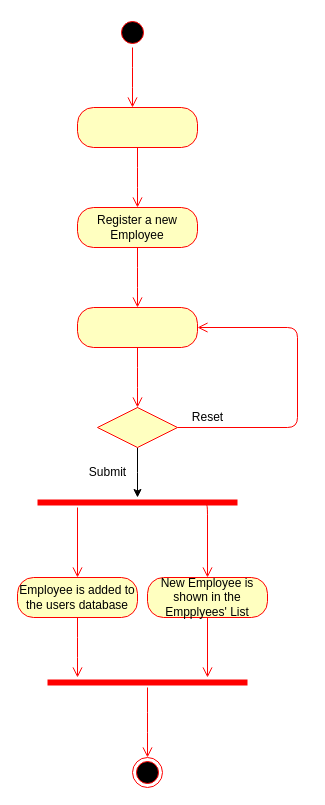
The diagram is 325 pixels wide and 805 high, and some of its shapes have lost their labels. Each missing label, with the box of its shape:
Fill in the Form: (76, 306, 198, 348)
Go to Dashboard/ Employees: (76, 106, 198, 148)
